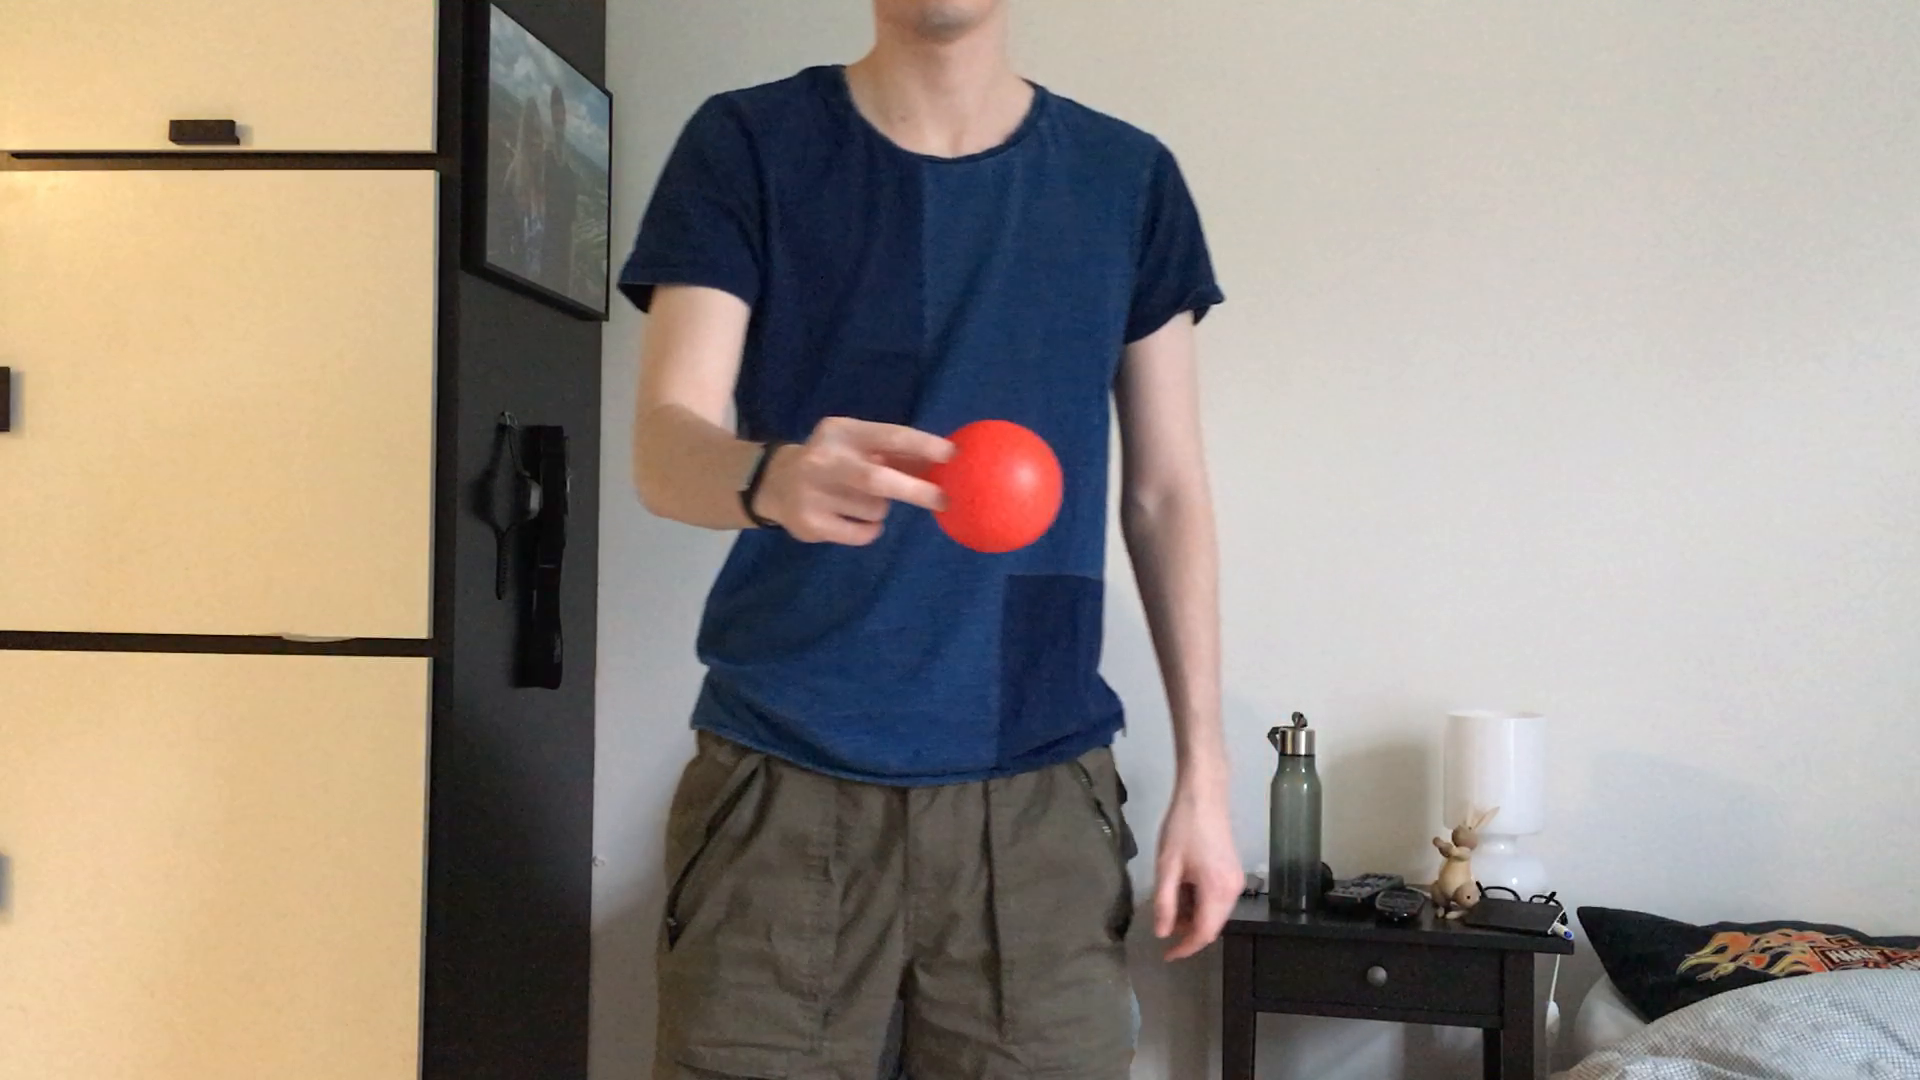Ball: (918, 411, 1063, 555)
